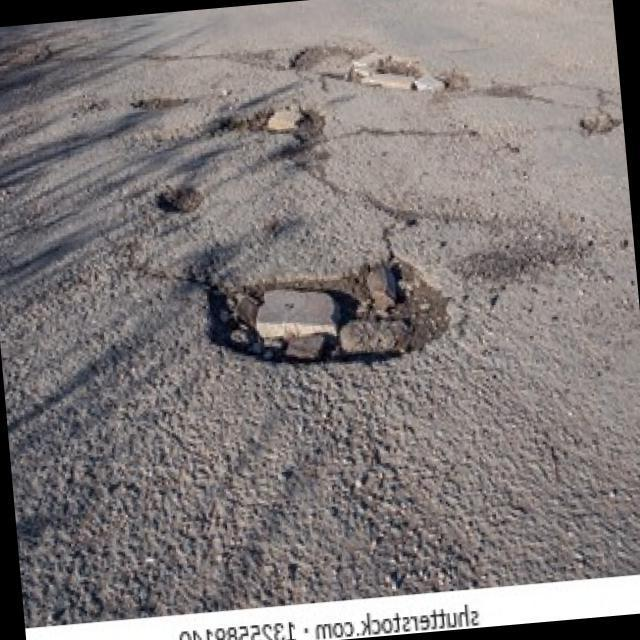pothole: (198, 248, 458, 379), (289, 30, 468, 108), (217, 101, 330, 168), (155, 184, 208, 215), (578, 111, 623, 137), (133, 93, 189, 112)
